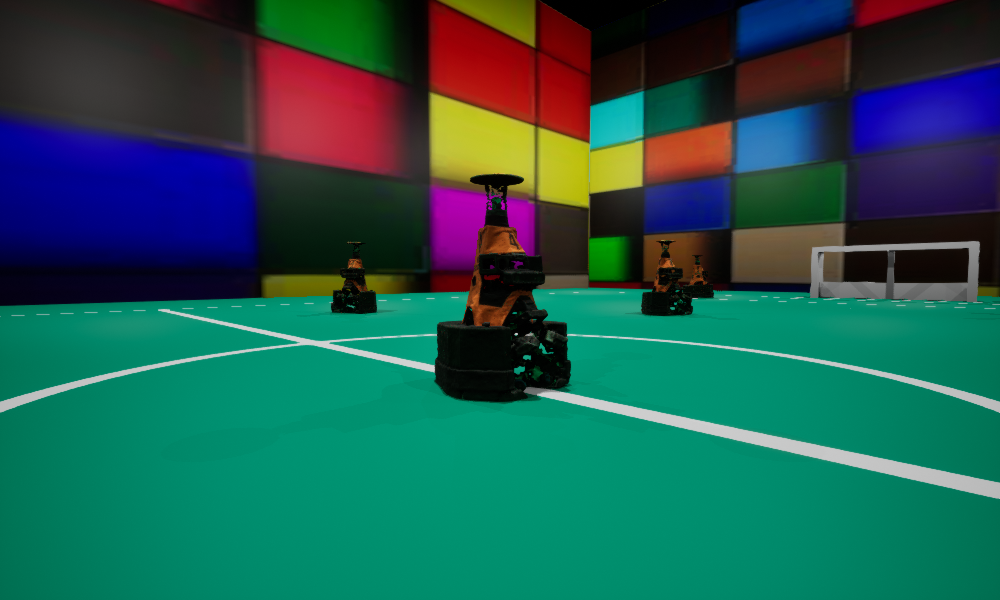o: (435, 173, 570, 401), (641, 240, 692, 315), (331, 242, 376, 312), (683, 255, 713, 297)
